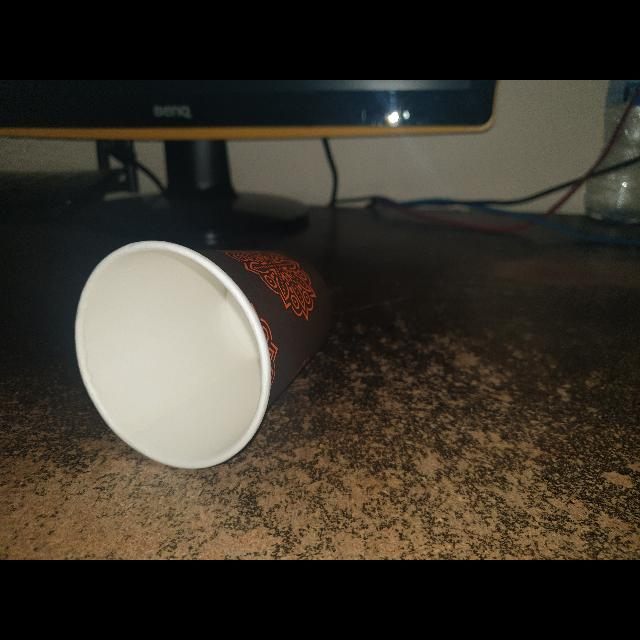trash: (66, 235, 338, 470)
